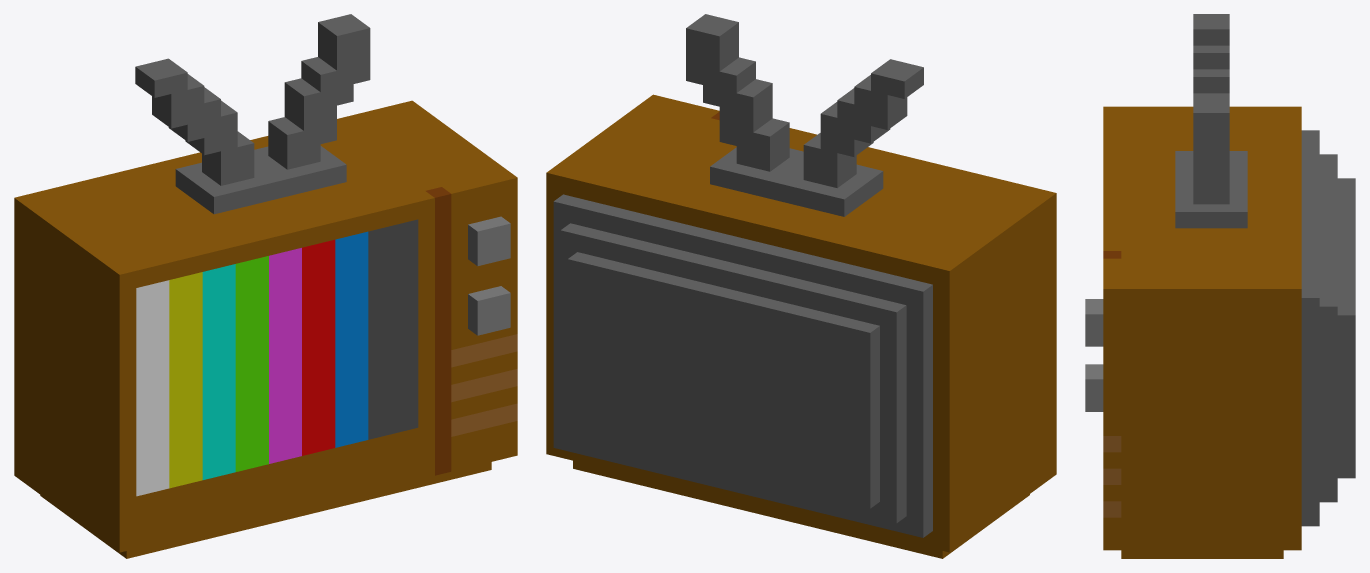
Rendered from retro_tv.glb.
3 renders of one model, left to right at view 1: azimuth 30°, elevation 25°; view 2: azimuth 150°, elevation 25°; view 3: azimuth 270°, elevation 25°, orthographic. The views are drawn at different scales.
Parts seen in each view (by area): view 1: VoxTransform; view 2: VoxTransform; view 3: VoxTransform.
Part boxes in pixels (x1,y1,x2,y2): VoxTransform: (14, 14, 517, 558); VoxTransform: (546, 14, 1056, 558); VoxTransform: (1085, 14, 1355, 558).
Bounding box in the file's own units: 24 × 25 × 15.
